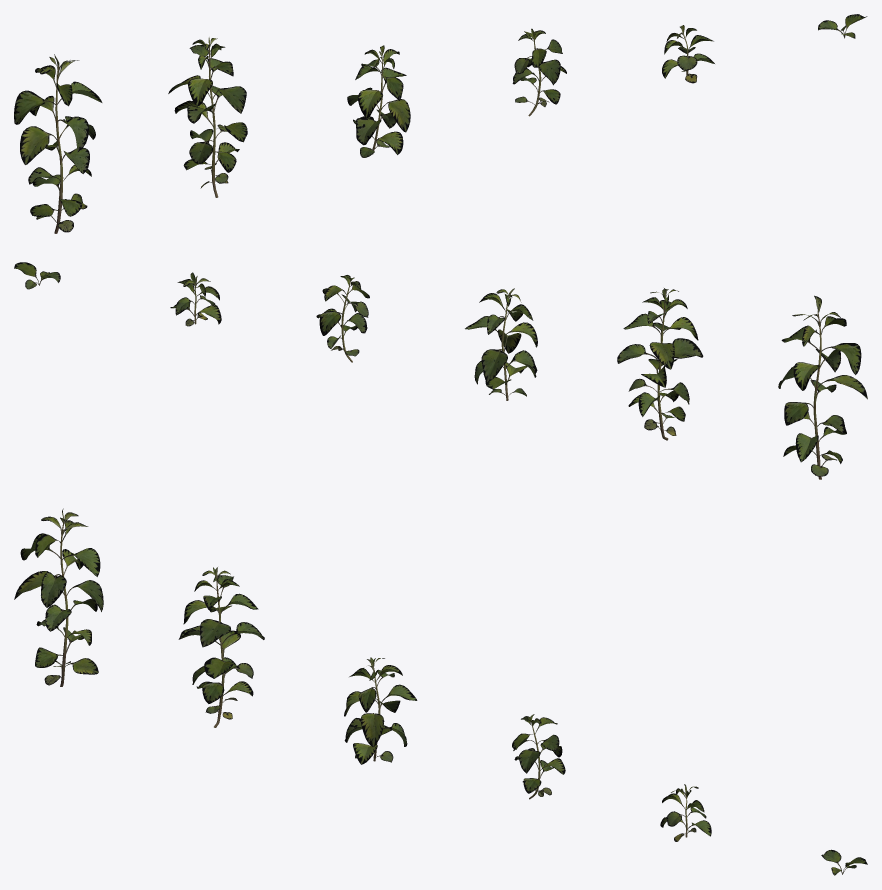
Rendered from nettle_plant.glb.
3 views of the same model, one above another, from view 1: azimuth 30°, elevation 25°; view 2: azimuth 150°, elevation 25°; view 3: azimuth 330°, elevation 25° (orthographic).
Parts seen in each view (by area): view 1: nettle_plant_medium_a_LOD0; view 2: nettle_plant_medium_a_LOD0; view 3: nettle_plant_medium_a_LOD0.
Part boxes in pixels (x1,y1,x2,y2): nettle_plant_medium_a_LOD0: (14, 14, 867, 233); nettle_plant_medium_a_LOD0: (14, 262, 867, 479); nettle_plant_medium_a_LOD0: (14, 508, 867, 875).
Size of the model in its own units: 1.08 by 0.2184 by 0.0946.
1 material, 1 textured.
